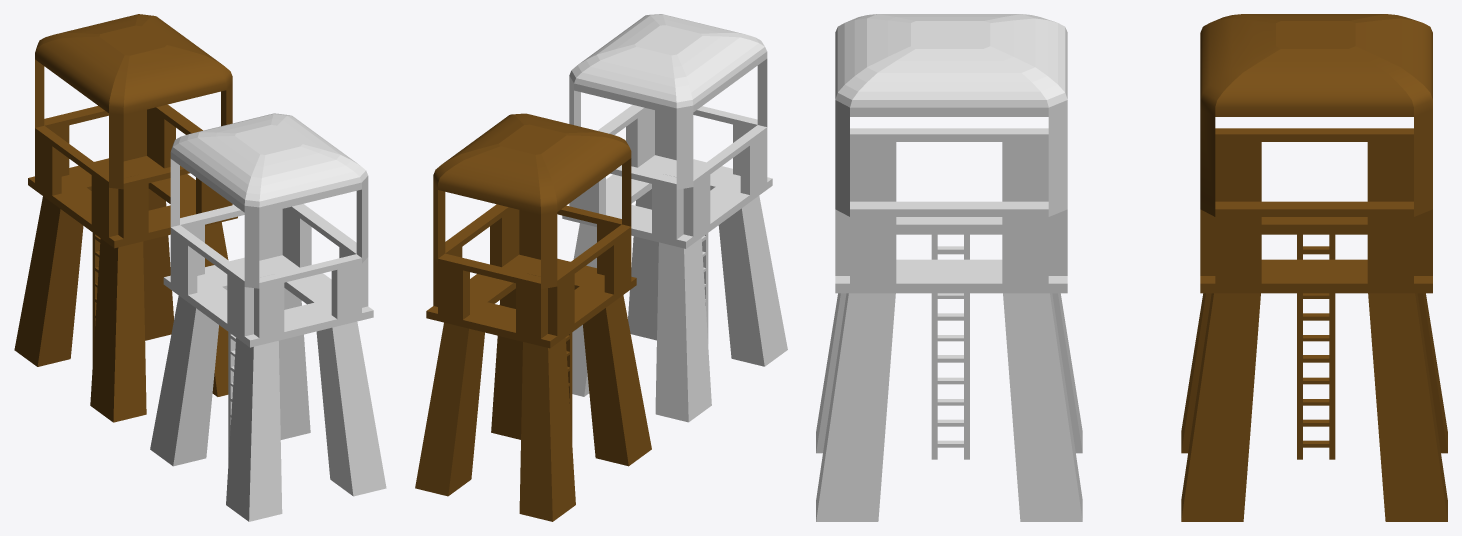
File: watch tower.fbx
3 views of the same model, side by side, from view 1: azimuth 30°, elevation 25°; view 2: azimuth 150°, elevation 25°; view 3: azimuth 270°, elevation 25° (orthographic). The views are drawn at different scales.
Parts seen in each view (by area): view 1: Cube.003, Cube.004; view 2: Cube.004, Cube.003; view 3: Cube.003, Cube.004.
Part boxes in pixels (x1,y1,x2,y2): Cube.003: (150, 113, 386, 521); Cube.004: (14, 14, 237, 422); Cube.004: (415, 113, 651, 521); Cube.003: (562, 14, 787, 422); Cube.003: (816, 14, 1082, 521); Cube.004: (1181, 14, 1447, 521).
Size of the model in its own units: 274 by 625 by 809.
